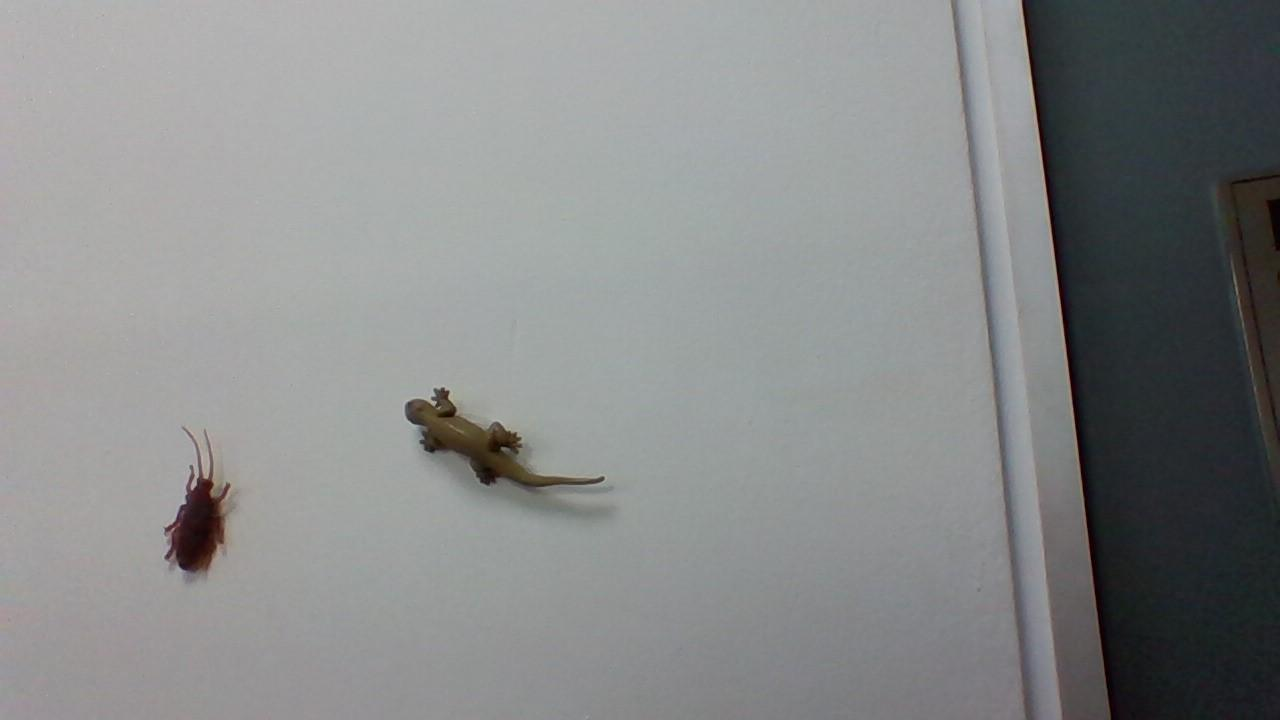cockroach: (163, 429, 235, 574)
lizard: (400, 389, 606, 489)
